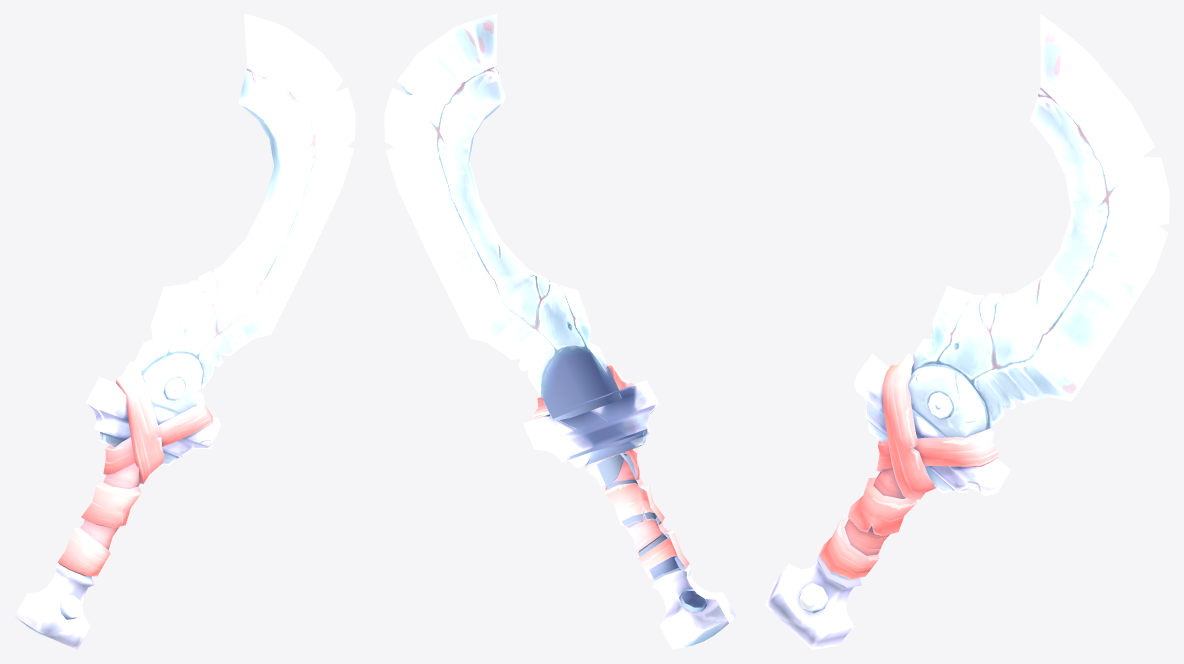
Rendered from sword.glb.
The picture shows the model from 3 angles, left to right: view 1: azimuth 30°, elevation 25°; view 2: azimuth 150°, elevation 25°; view 3: azimuth 330°, elevation 25°; orthographic projection. The views are drawn at different scales.
Parts seen in each view (by area): view 1: Cube; view 2: Cube; view 3: Cube.
Boxes of the visible parts, x1,y1,x2,y2 form: Cube: (14, 14, 355, 649); Cube: (384, 14, 736, 649); Cube: (765, 14, 1169, 649).
Bounding box in the file's own units: 0.5963 × 0.9794 × 0.0497.
